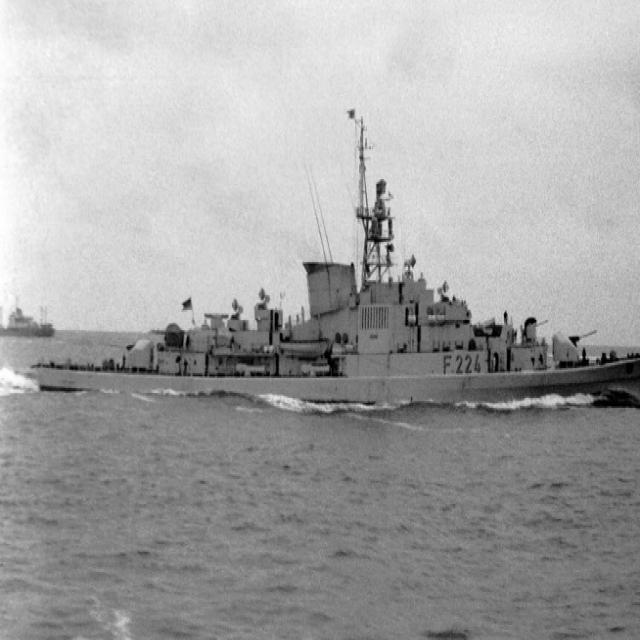Fragata: (23, 100, 640, 415)
